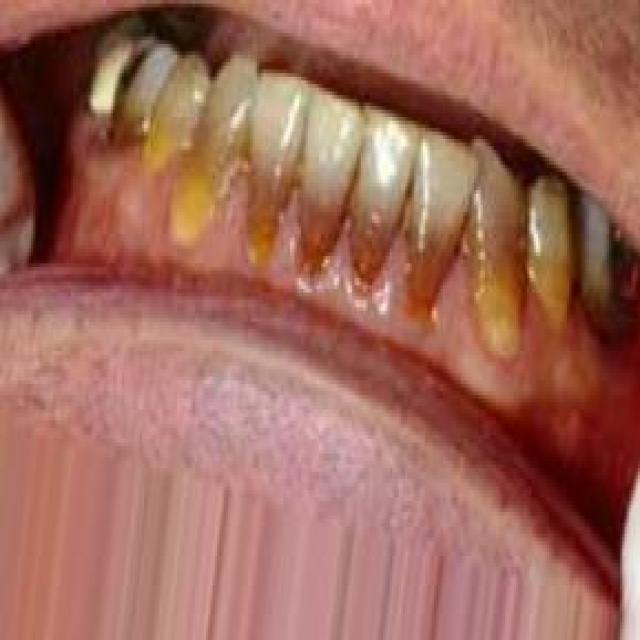caries: (110, 37, 152, 110)
